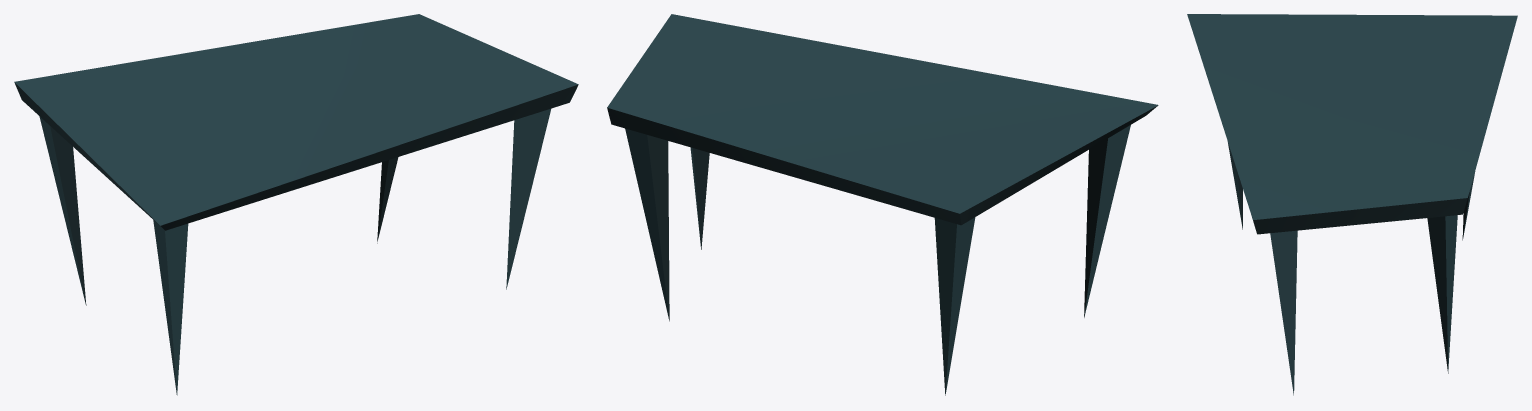
File: c_furniture_table_square_metal_aa.fbx
3 views of the same model, side by side, from view 1: azimuth 30°, elevation 25°; view 2: azimuth 150°, elevation 25°; view 3: azimuth 270°, elevation 25° (orthographic). The views are drawn at different scales.
Parts seen in each view (by area): view 1: c_furniture_table_square_metal_aa; view 2: c_furniture_table_square_metal_aa; view 3: c_furniture_table_square_metal_aa.
Boxes of the visible parts, bbox=[...] form: c_furniture_table_square_metal_aa: bbox=[14, 14, 578, 395]; c_furniture_table_square_metal_aa: bbox=[607, 14, 1158, 395]; c_furniture_table_square_metal_aa: bbox=[1187, 14, 1517, 395].
Bounding box in the file's own units: 2.05 × 0.9307 × 1.36.
